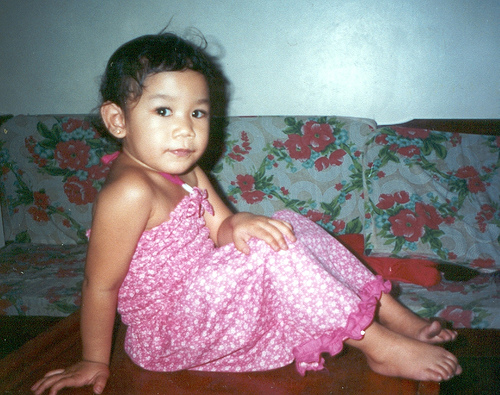without_mask: (102, 65, 218, 177)
